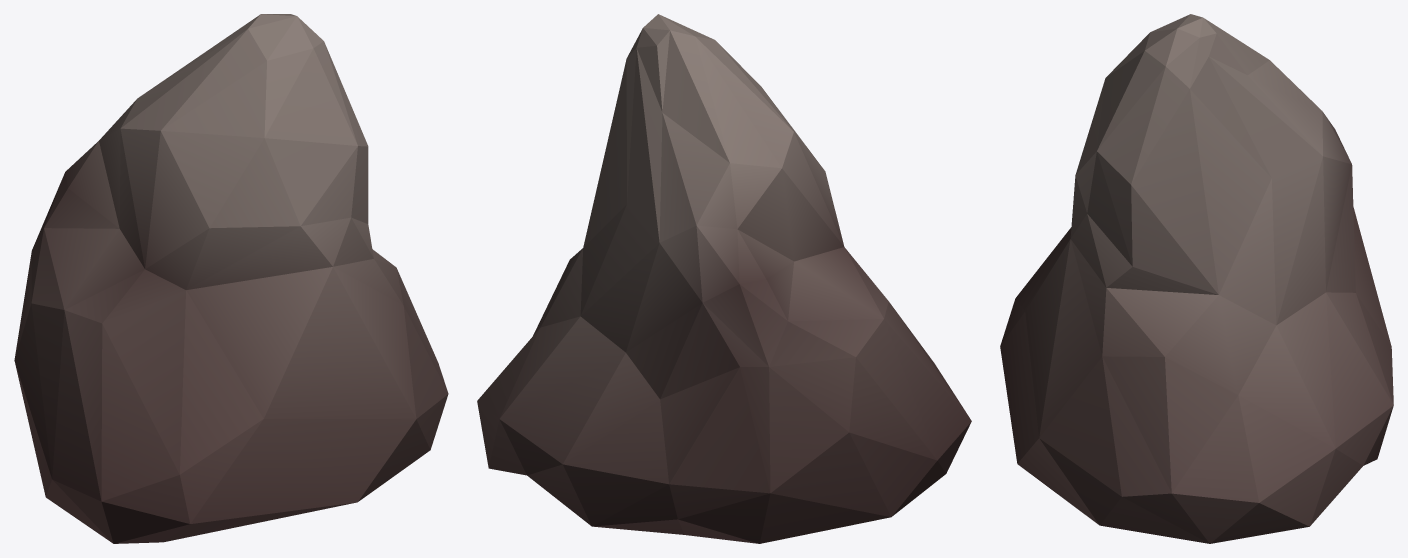
Rendered from Rock.fbx.
3 renders of one model, left to right at view 1: azimuth 30°, elevation 25°; view 2: azimuth 150°, elevation 25°; view 3: azimuth 270°, elevation 25°, orthographic. The views are drawn at different scales.
Visible parts, largest first — view 1: Sphere; view 2: Sphere; view 3: Sphere.
Part boxes in pixels (x1,y1,x2,y2): Sphere: (14, 14, 448, 543); Sphere: (477, 14, 971, 543); Sphere: (1000, 14, 1393, 543).
Bounding box in the file's own units: 296 × 311 × 242.
